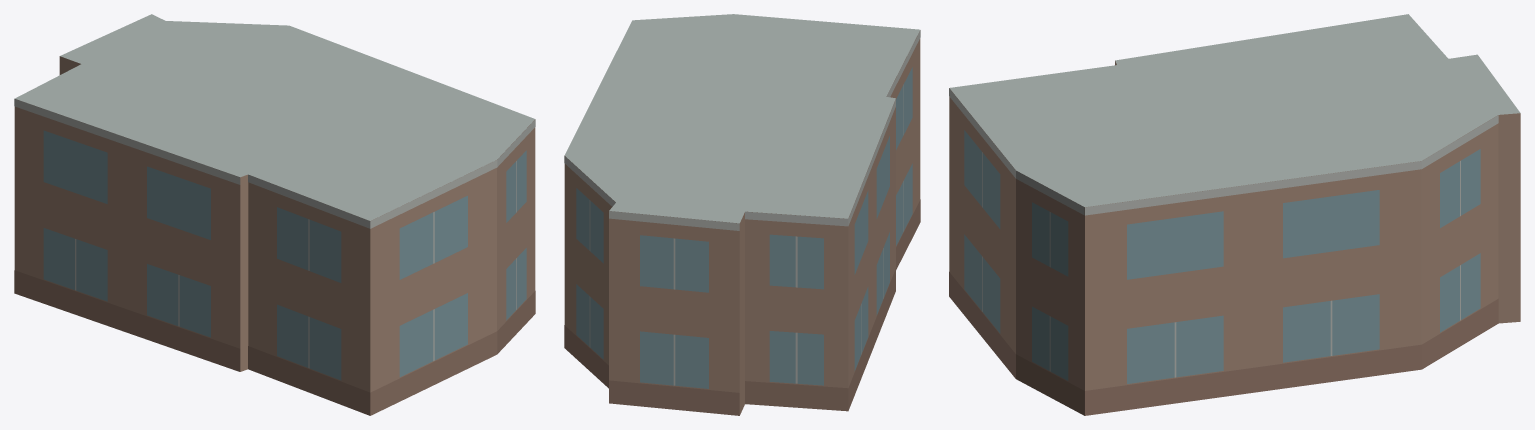
Rendered from survey-upis-32570145.glb.
3 views of the same model, side by side, from view 1: azimuth 30°, elevation 25°; view 2: azimuth 150°, elevation 25°; view 3: azimuth 270°, elevation 25° (orthographic). The views are drawn at different scales.
Visible parts, largest first — view 1: survey-upis-32570145.tmp; view 2: survey-upis-32570145.tmp; view 3: survey-upis-32570145.tmp.
Boxes of the visible parts, left/top/right/bottom form: survey-upis-32570145.tmp: left=14, top=14, right=535, bottom=415; survey-upis-32570145.tmp: left=564, top=14, right=920, bottom=415; survey-upis-32570145.tmp: left=949, top=14, right=1520, bottom=415.
Bounding box in the file's own units: 12.13 × 6.1 × 15.15.
